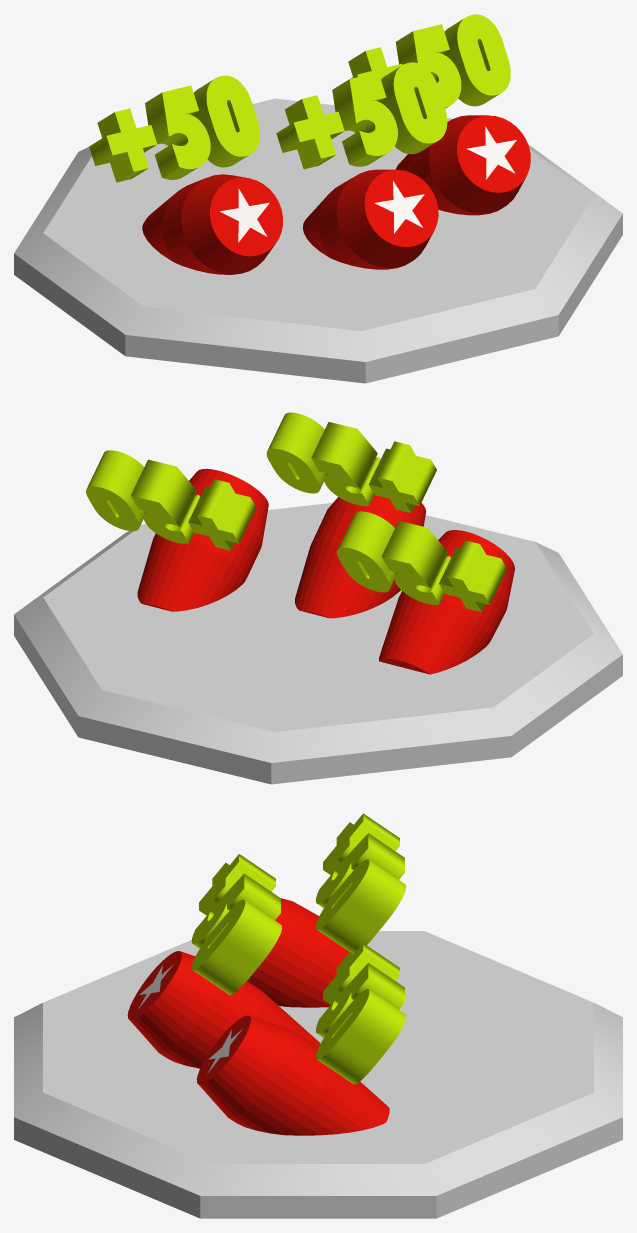
Rendered from Every50.fbx.
The picture shows the model from 3 angles, top to bottom: view 1: azimuth 30°, elevation 25°; view 2: azimuth 150°, elevation 25°; view 3: azimuth 270°, elevation 25°; orthographic projection. The views are drawn at different scales.
Parts seen in each view (by area): view 1: Cube.004, Text.004, Text, Text.002, Text.001, Text.003, Text.005; view 2: Cube.004, Text.005, Text, Text.004, Text.003, Text.002, Text.001; view 3: Cube.004, Text.003, Text.001, Text.005, Text.004, Text, Text.002.
Boxes of the visible parts, left/top/right/bottom form: Cube.004: left=14, top=98, right=622, bottom=383; Text.004: left=276, top=62, right=447, bottom=169; Text: left=89, top=75, right=259, bottom=182; Text.002: left=142, top=174, right=282, bottom=274; Text.001: left=302, top=169, right=438, bottom=269; Text.003: left=395, top=115, right=530, bottom=215; Text.005: left=348, top=14, right=510, bottom=108; Cube.004: left=14, top=502, right=622, bottom=784; Text.005: left=86, top=450, right=256, bottom=550; Text: left=336, top=511, right=506, bottom=611; Text.004: left=266, top=412, right=436, bottom=513; Text.003: left=137, top=468, right=268, bottom=611; Text.002: left=379, top=530, right=514, bottom=674; Text.001: left=295, top=495, right=426, bottom=618; Cube.004: left=14, top=931, right=622, bottom=1218; Text.003: left=196, top=1015, right=389, bottom=1135; Text.001: left=127, top=951, right=320, bottom=1068; Text.005: left=316, top=943, right=406, bottom=1084; Text.004: left=191, top=854, right=281, bottom=995; Text: left=316, top=813, right=406, bottom=954; Text.002: left=247, top=898, right=349, bottom=1007.
Size of the model in its own units: 90.03 by 37.55 by 90.03.
